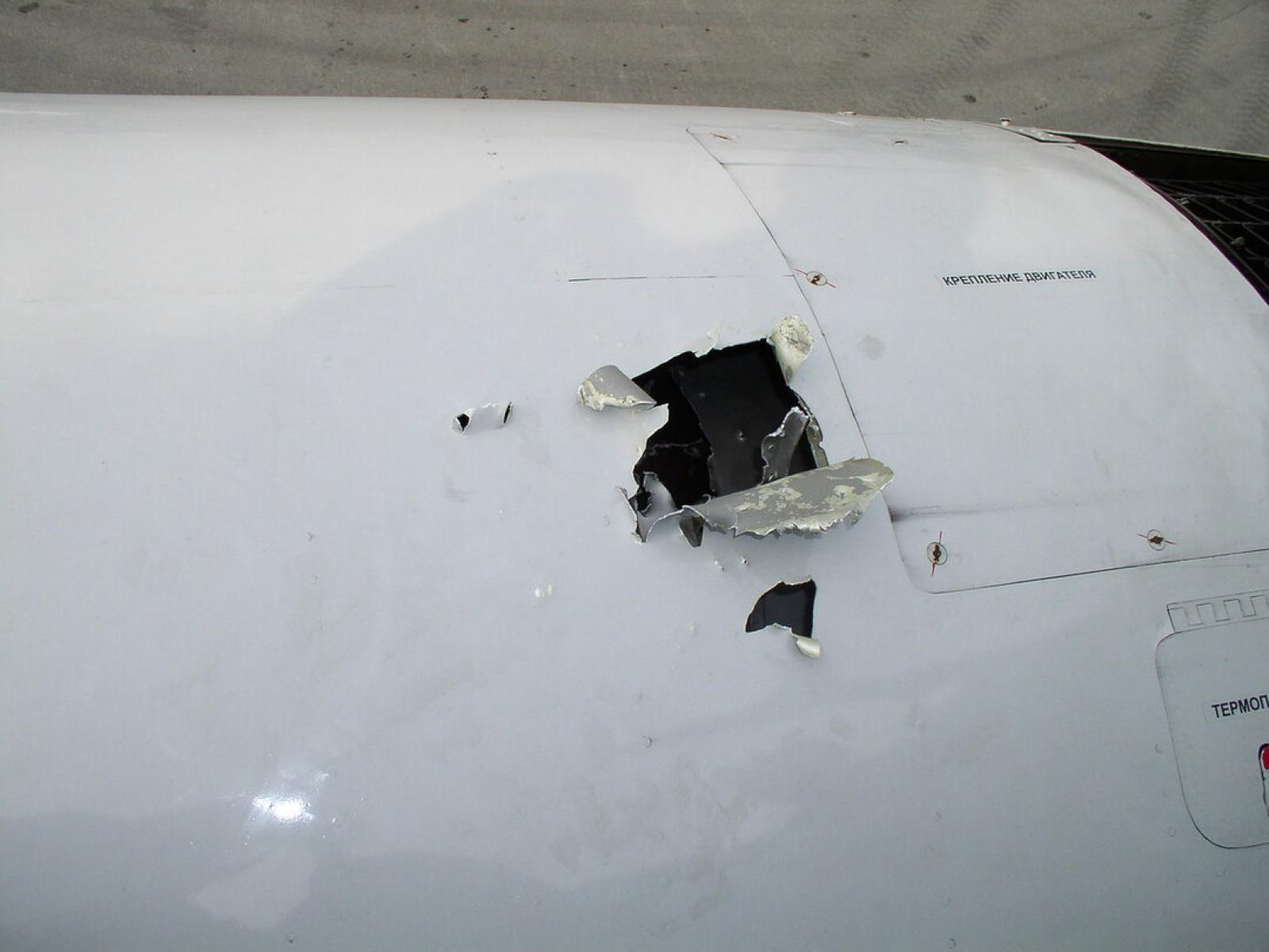Fuselage_damage: (631, 339, 807, 511), (642, 458, 892, 536), (746, 579, 815, 639), (578, 365, 657, 411), (767, 313, 815, 381), (773, 430, 826, 480), (454, 403, 512, 432), (793, 635, 819, 655)
